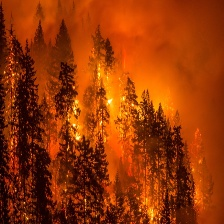fire: (69, 92, 86, 142), (97, 63, 113, 113), (137, 197, 160, 221), (188, 183, 205, 210), (120, 90, 138, 107)
smoke: (123, 2, 224, 105), (24, 1, 123, 55)
